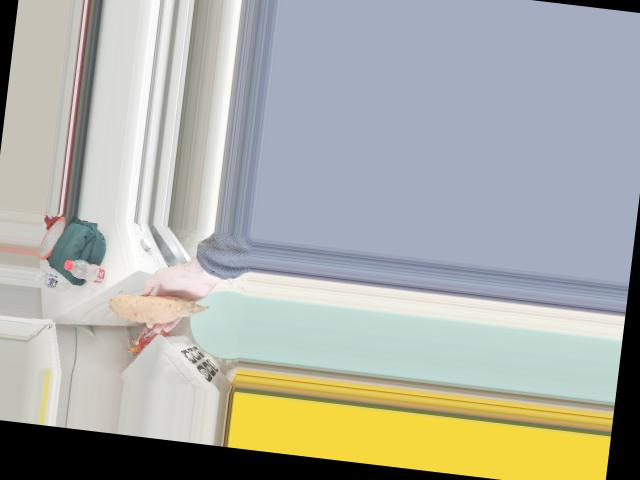sweet_potato: (107, 287, 206, 329)
